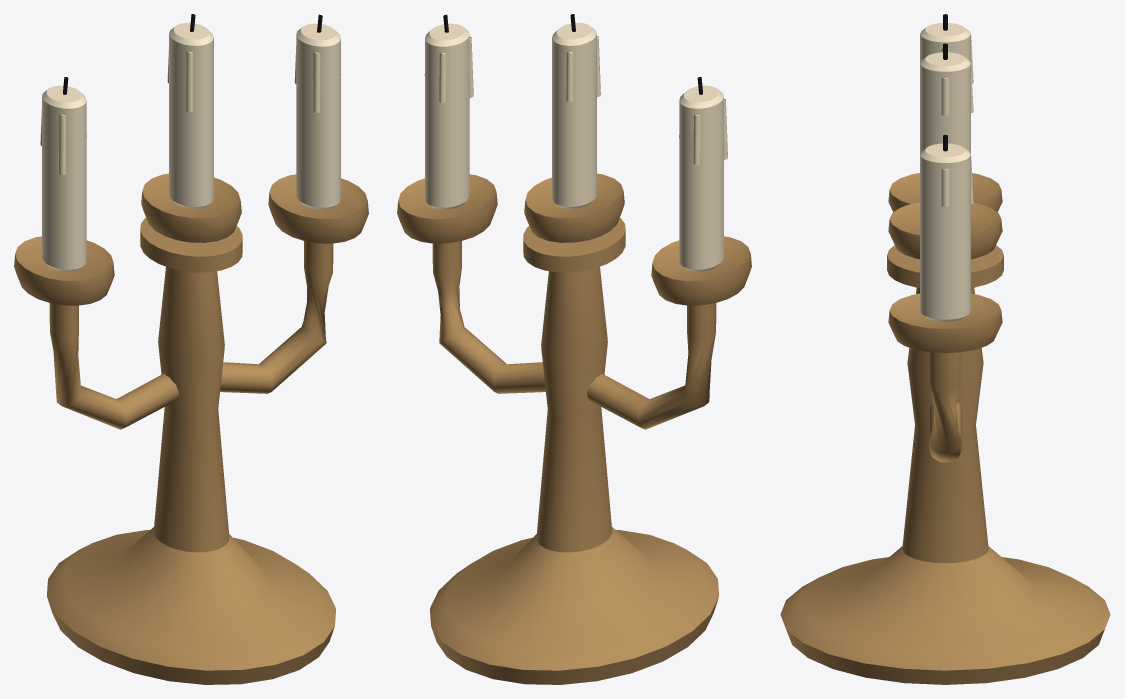
Rendered from candelabra.glb.
3 renders of one model, left to right at view 1: azimuth 30°, elevation 25°; view 2: azimuth 150°, elevation 25°; view 3: azimuth 270°, elevation 25°, orthographic. The views are drawn at different scales.
Parts seen in each view (by area): view 1: candelabra; view 2: candelabra; view 3: candelabra.
Boxes of the visible parts, box(x1,y1,x2,y2) form: candelabra: box(14, 14, 368, 684); candelabra: box(397, 14, 751, 684); candelabra: box(780, 14, 1110, 684).
Size of the model in its own units: 0.32 by 0.55 by 0.28.
Materials: 3 (1 with a texture image).
